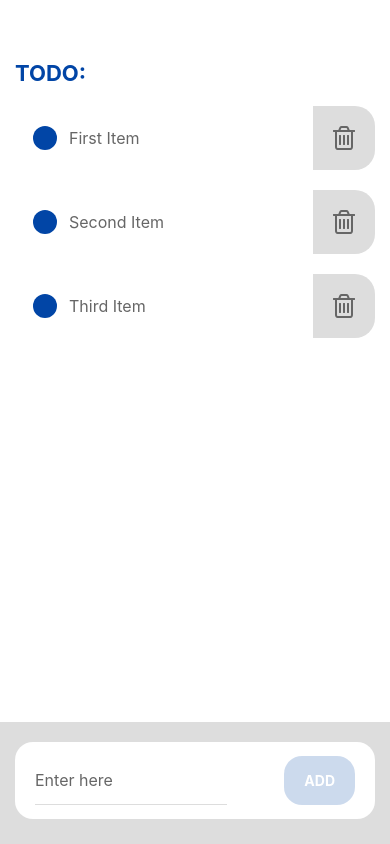
Scenario: Home screen › should remove the first item
The width and height of the screenshot is (390, 844).
Click the element with test id "delete" in the row of "First Item" at [344, 138], box [313,106,375,170]
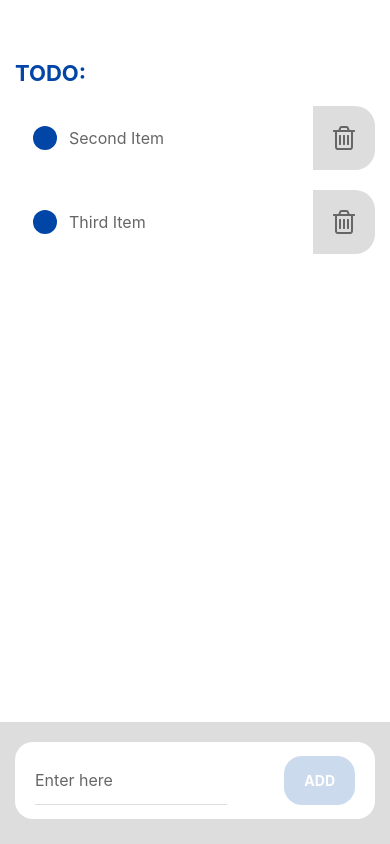
Now the text "First Item" is gone
